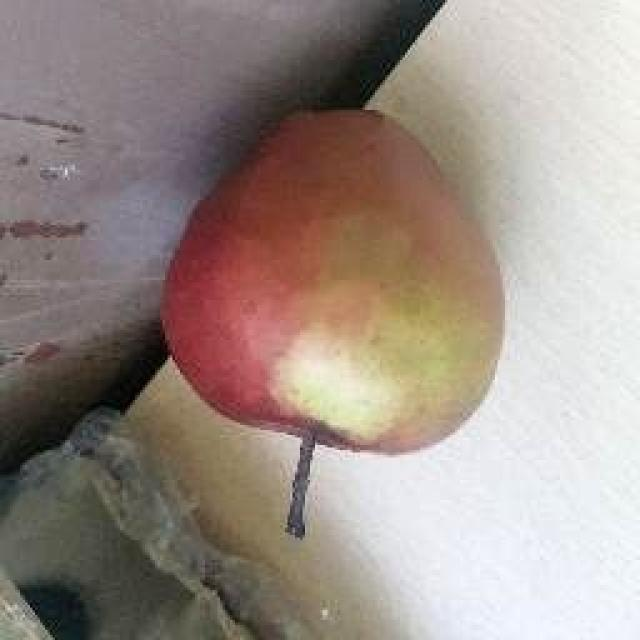Good_Apple: (162, 110, 508, 458)
